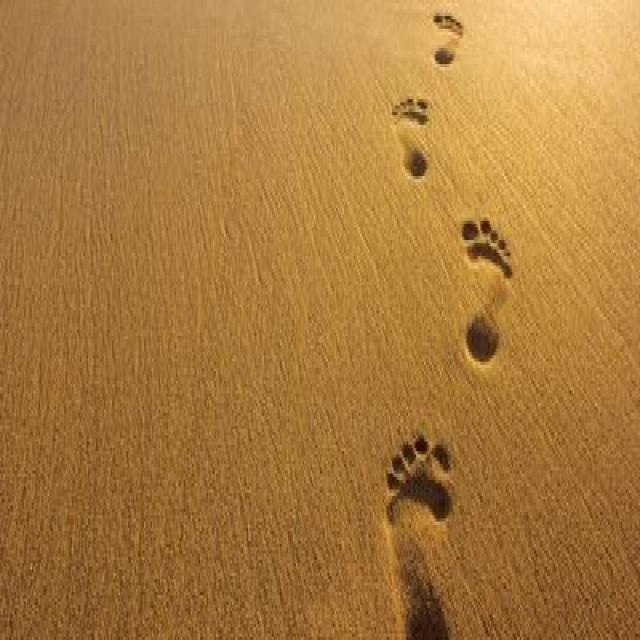human_footprint: (316, 0, 547, 640)
